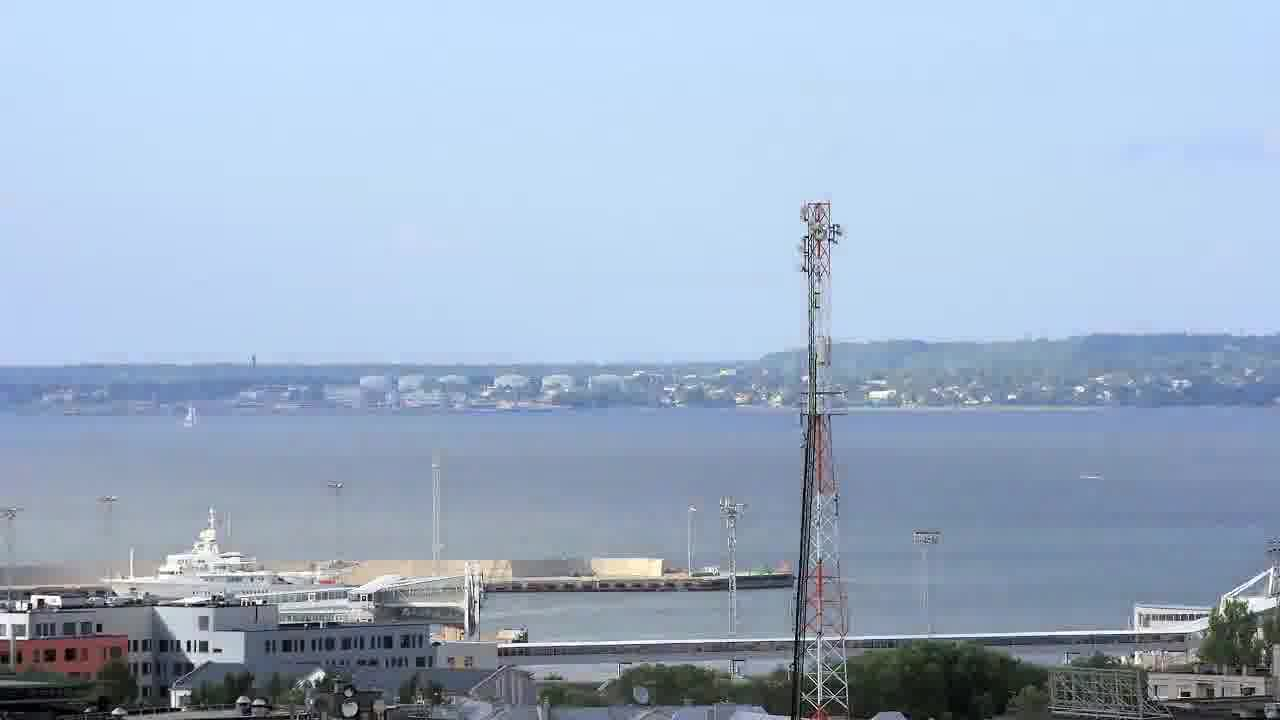type-2: (168, 391, 214, 446)
type-3: (88, 507, 346, 605)
